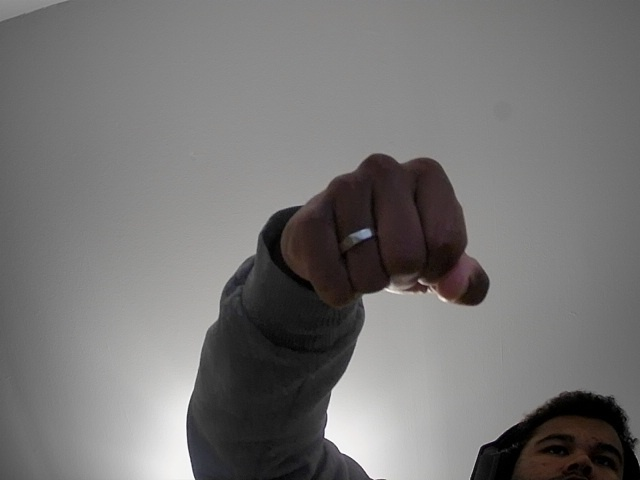Yes: (257, 146, 500, 320)
